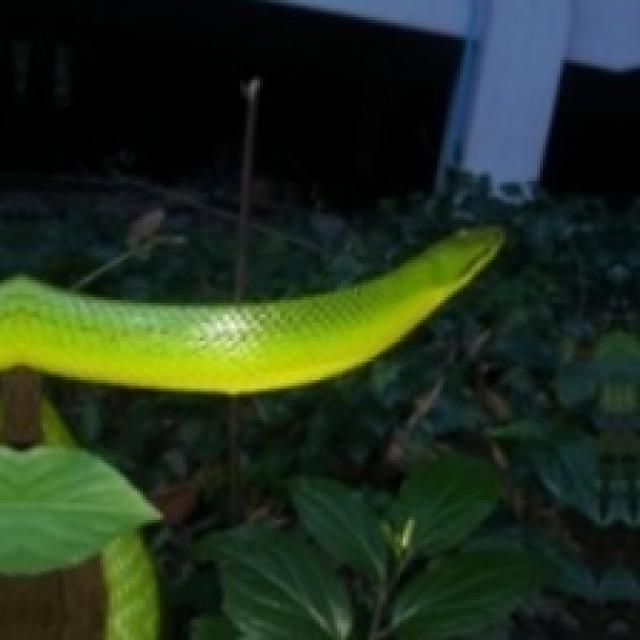red-tailed green ratsnake: (0, 226, 503, 394)
